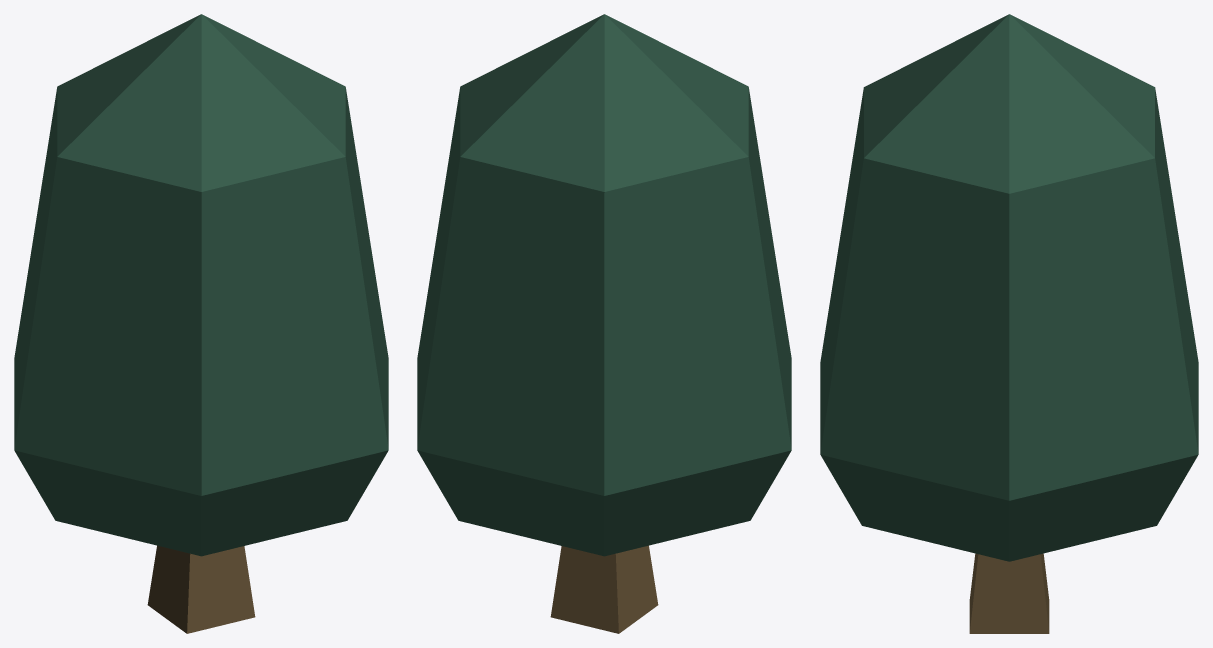
Rendered from Large_Oak_Green_01.obj.
3 views of the same model, side by side, from view 1: azimuth 30°, elevation 25°; view 2: azimuth 150°, elevation 25°; view 3: azimuth 270°, elevation 25° (orthographic).
Parts seen in each view (by area): view 1: Mesh1_Large_Oak_Green_Model; view 2: Mesh1_Large_Oak_Green_Model; view 3: Mesh1_Large_Oak_Green_Model.
Part boxes in pixels (x1,y1,x2,y2): Mesh1_Large_Oak_Green_Model: [14, 14, 388, 633]; Mesh1_Large_Oak_Green_Model: [417, 14, 791, 633]; Mesh1_Large_Oak_Green_Model: [820, 14, 1198, 633].
Bounding box in the file's own units: 3.02 × 4.6 × 2.62.
